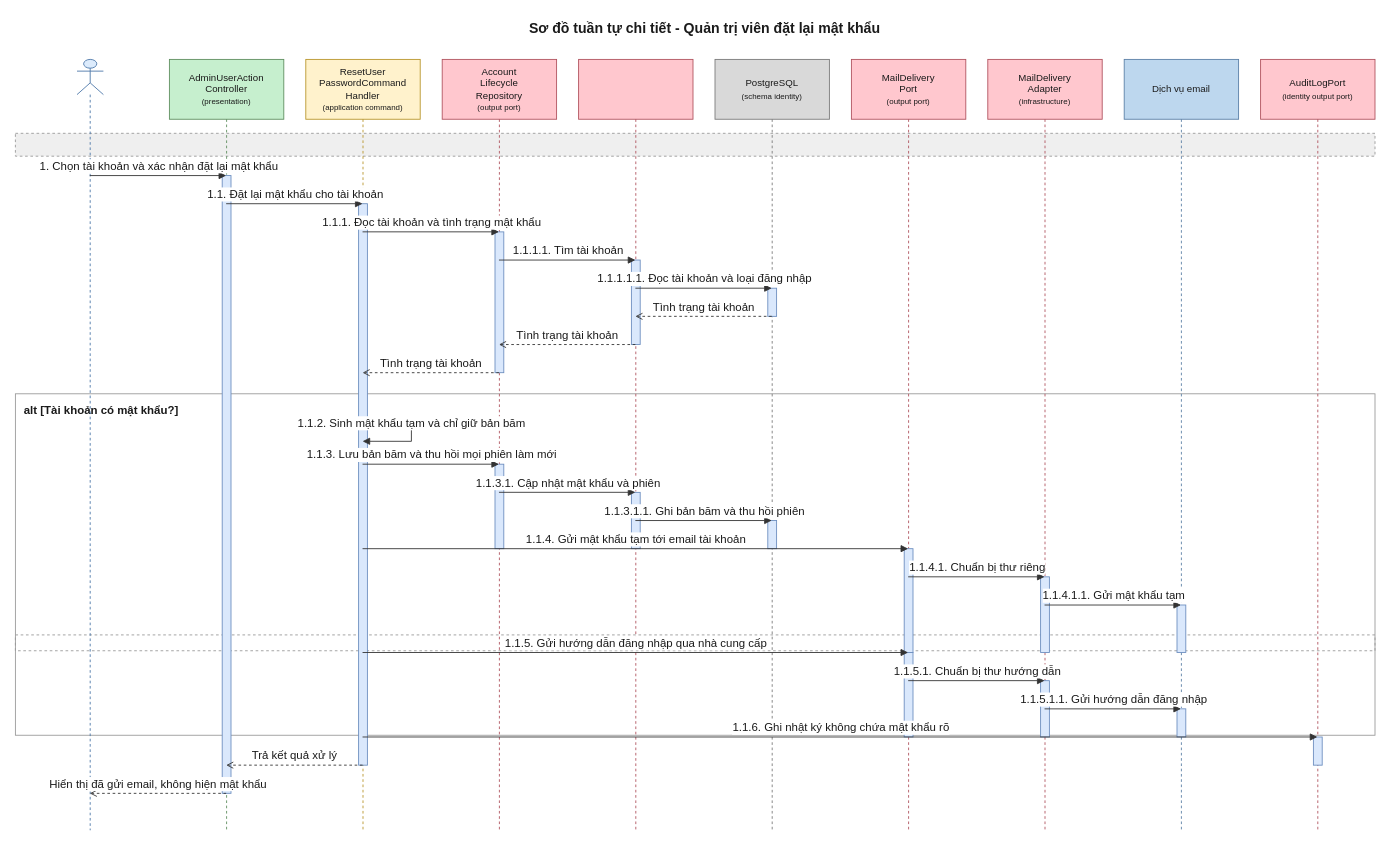
The diagram is 1390 pixels wide and 846 high, and some of its shapes have lost their labels. Here are the shapes that lost their labels. From the top down, the box of each, then its label:
(15, 132, 1375, 156): Giai đoạn 1 - Kiểm tài khoản và phương thức đăng nhập
(76, 59, 103, 830): Quản trị viên
(578, 59, 693, 830): JdbcUserAccount Repository (persistence adapter)
(15, 634, 1375, 651): else
